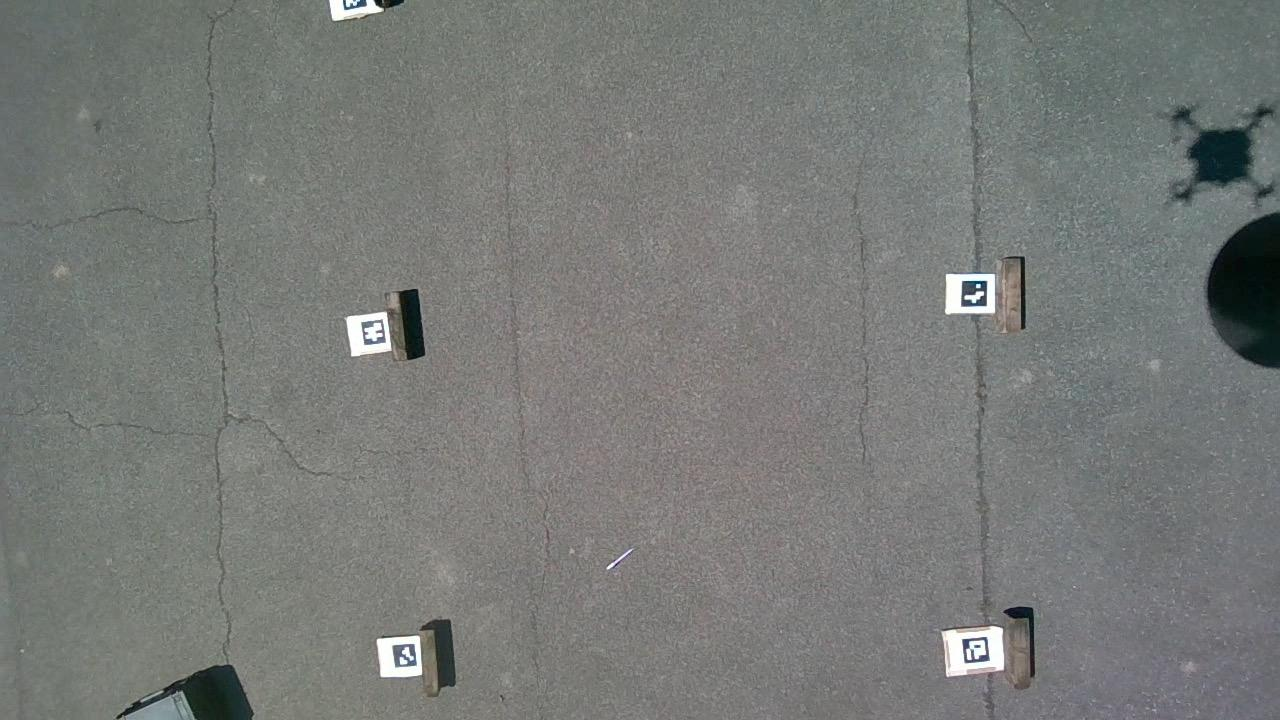probes: (605, 547, 635, 570)
